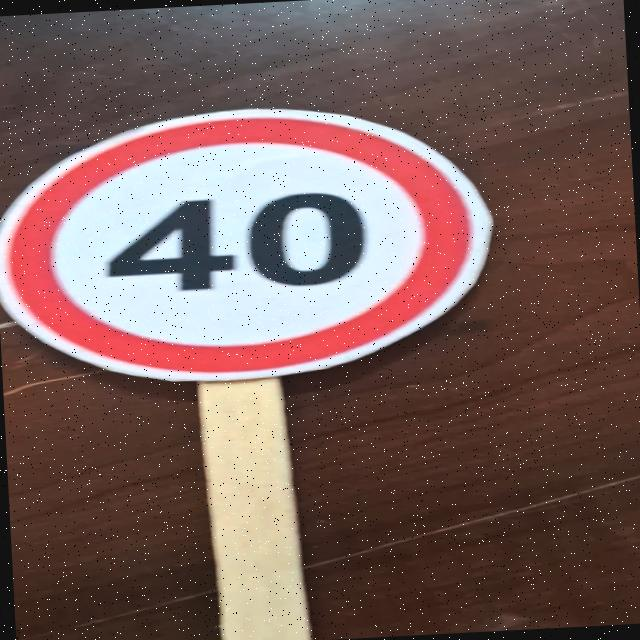Speed40: (0, 95, 502, 396)
